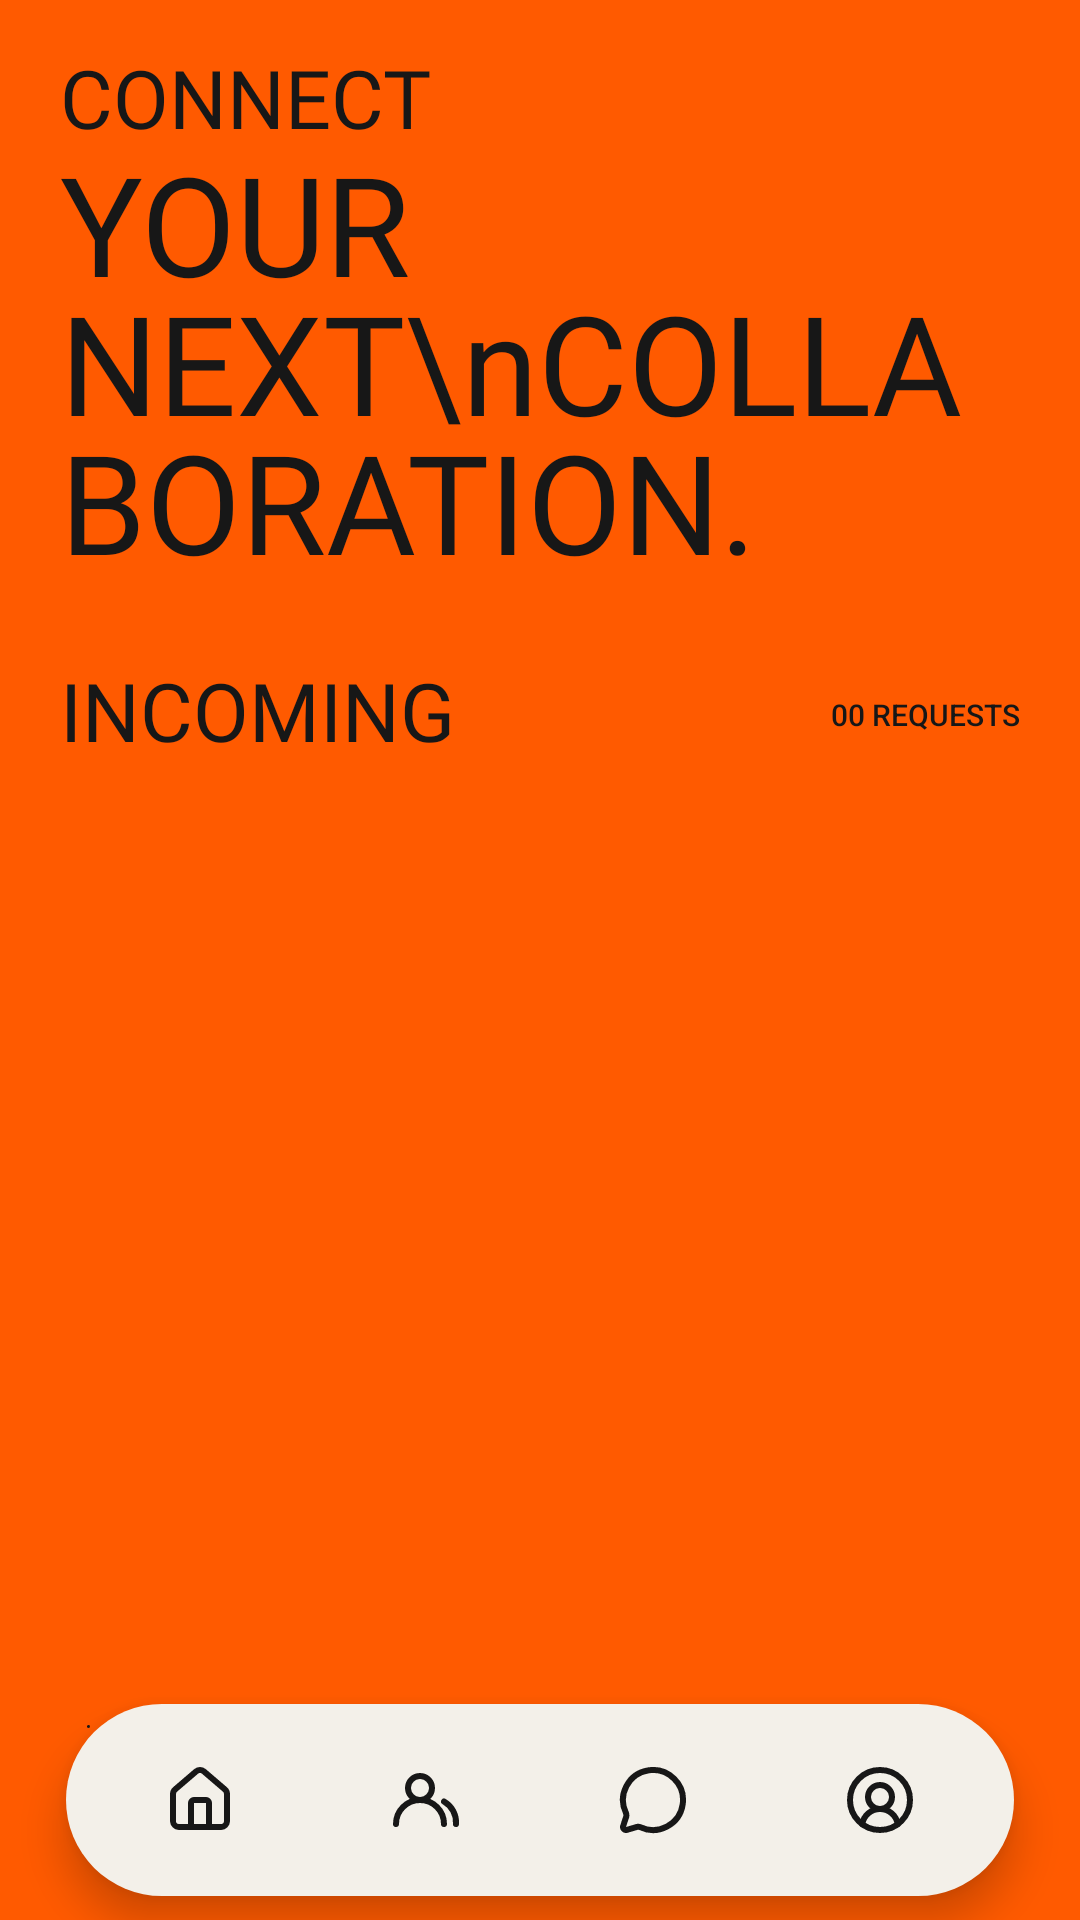

Named icons in this screenshot (1080 × 1920) and their bounding boxes, detection(x1, y1, x2, y2):
Chats: detection(619, 1767, 686, 1834)
Connect: detection(393, 1773, 459, 1827)
Your profile: detection(847, 1767, 913, 1833)
